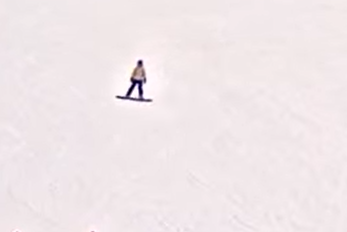snowboarder: (114, 58, 153, 102)
